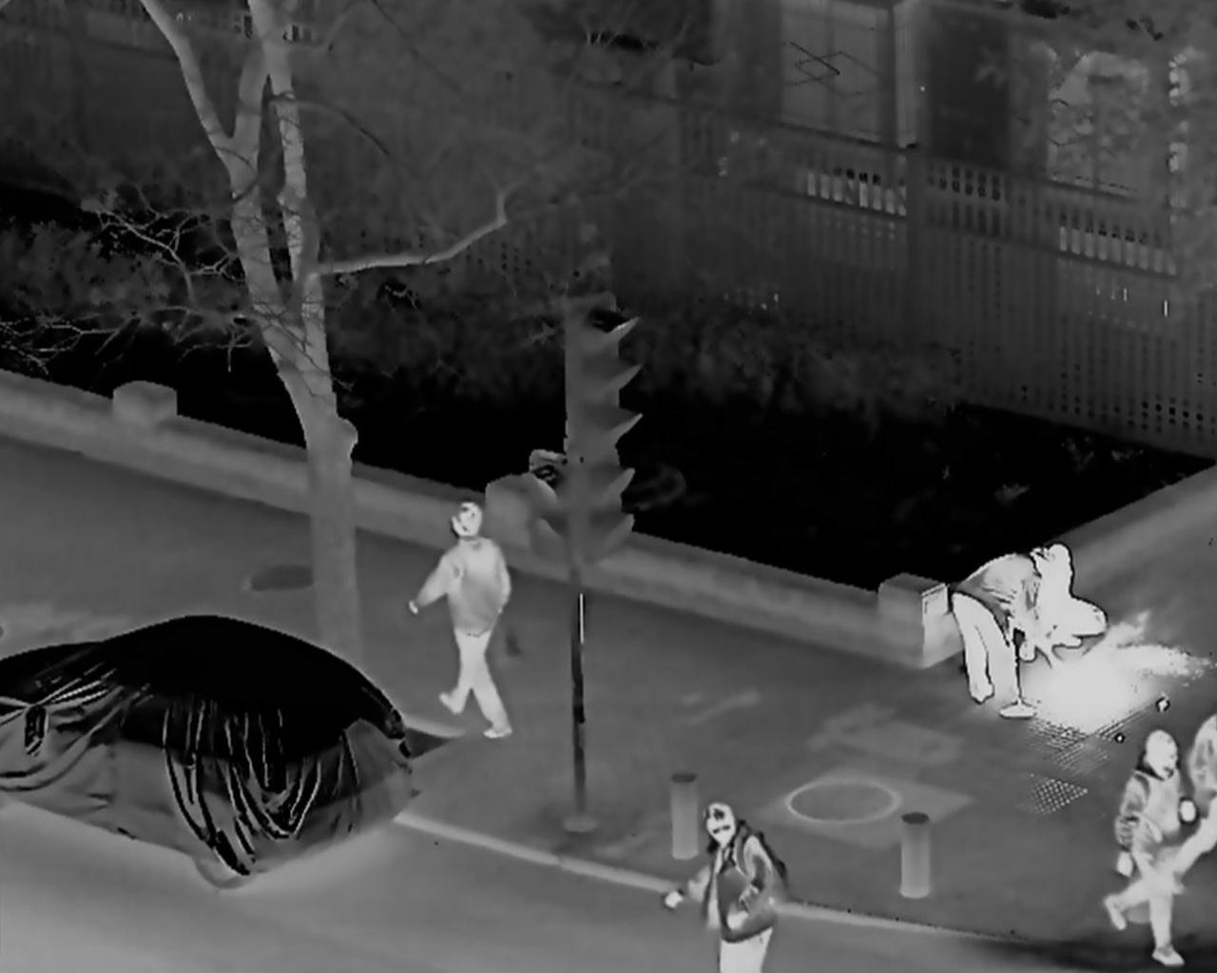person: (404, 502, 523, 741), (657, 806, 779, 973), (1105, 731, 1183, 966), (954, 548, 1053, 718), (1017, 538, 1108, 668), (1169, 708, 1215, 889)
